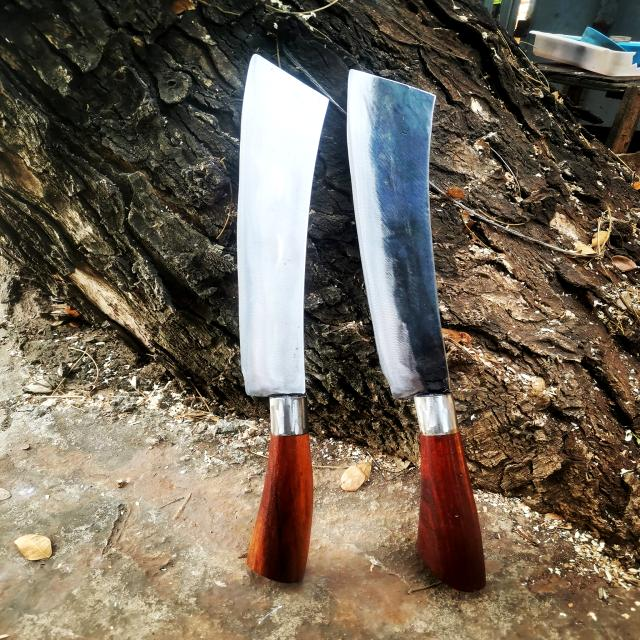eto: (335, 52, 502, 604), (229, 38, 342, 588)
